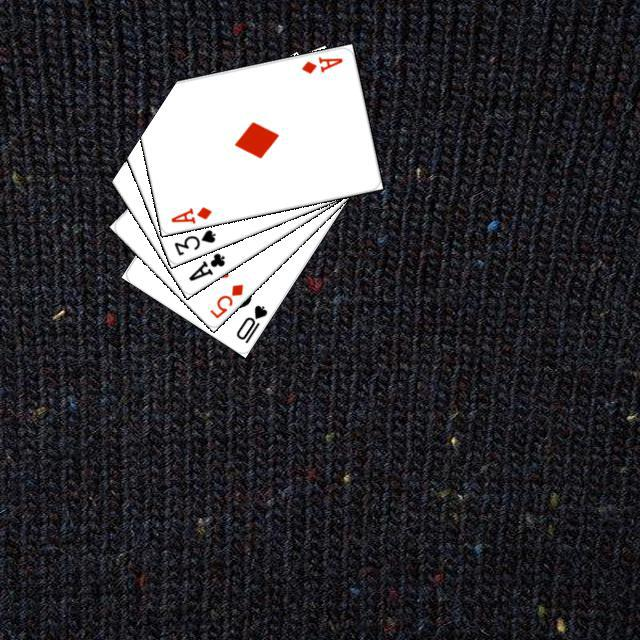10s: (231, 300, 269, 345)
3s: (169, 224, 217, 257)
5d: (205, 279, 245, 320)
Ac: (183, 248, 227, 283)
Ad: (166, 202, 213, 225), (297, 52, 344, 75)
